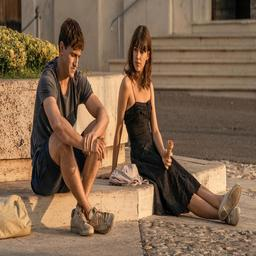person: (101, 26, 241, 227), (31, 19, 115, 235)
